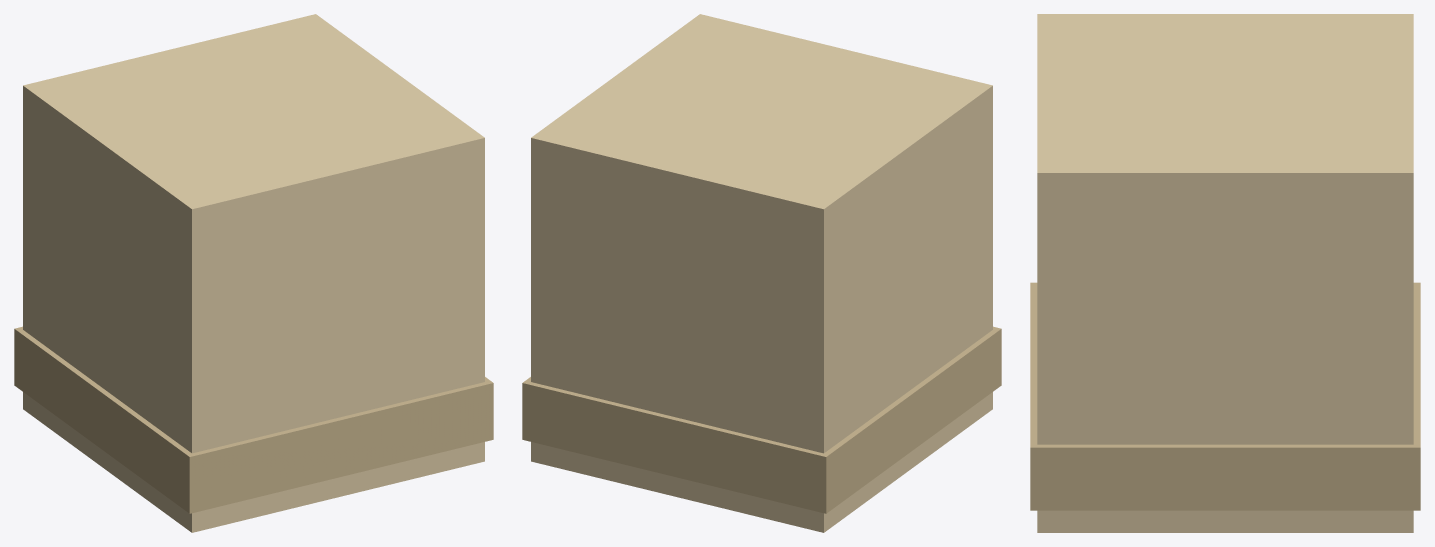
Rendered from cacafantasma_canela.glb.
3 views of the same model, side by side, from view 1: azimuth 30°, elevation 25°; view 2: azimuth 150°, elevation 25°; view 3: azimuth 270°, elevation 25° (orthographic). The views are drawn at different scales.
Parts seen in each view (by area): view 1: cacafantasma_canela; view 2: cacafantasma_canela; view 3: cacafantasma_canela.
Part boxes in pixels (<box>): cacafantasma_canela: <box>14,14,493,532</box>; cacafantasma_canela: <box>522,14,1001,532</box>; cacafantasma_canela: <box>1030,14,1420,532</box>.
Bounding box in the file's own units: 0.28 × 0.285 × 0.28.
